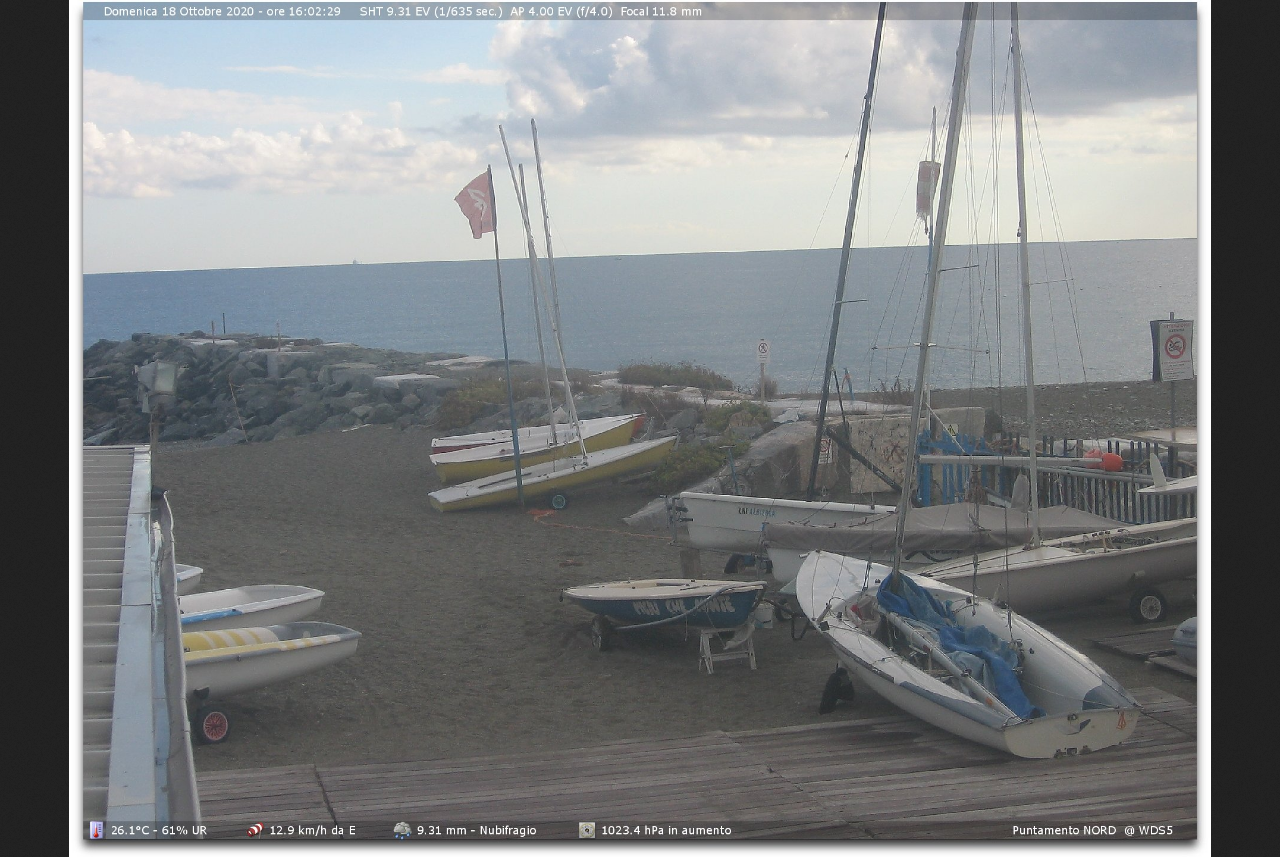maybe: (454, 154, 506, 248)
